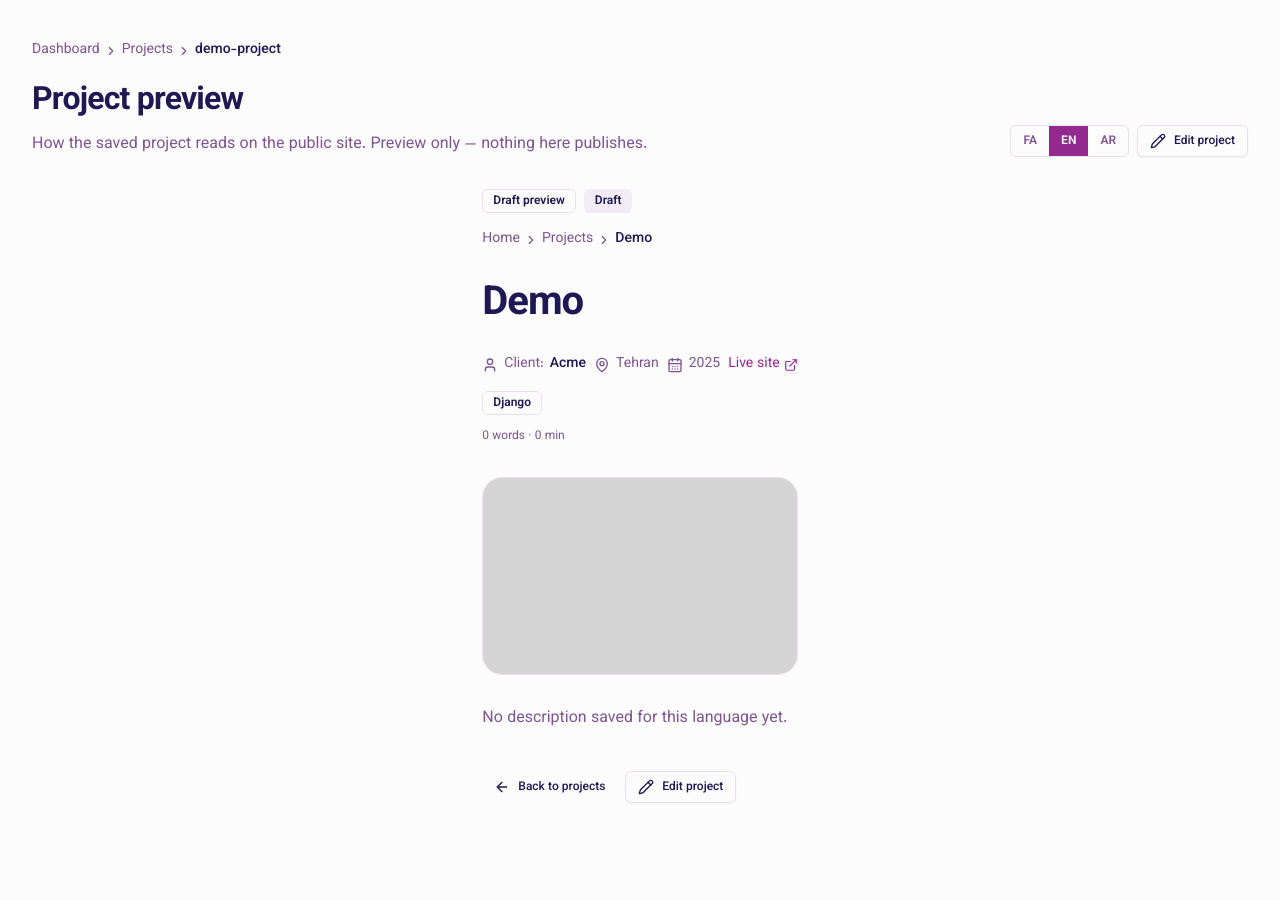
Scenario: ProjectPreviewPage › renders the read-only draft preview without publishing
Expected: the heading "Project preview" is shown, [32, 76, 243, 126]
Expected: the heading "Demo" is shown, [482, 273, 583, 335]
Click the button "fa": [1030, 141] box [1012, 126, 1049, 156]
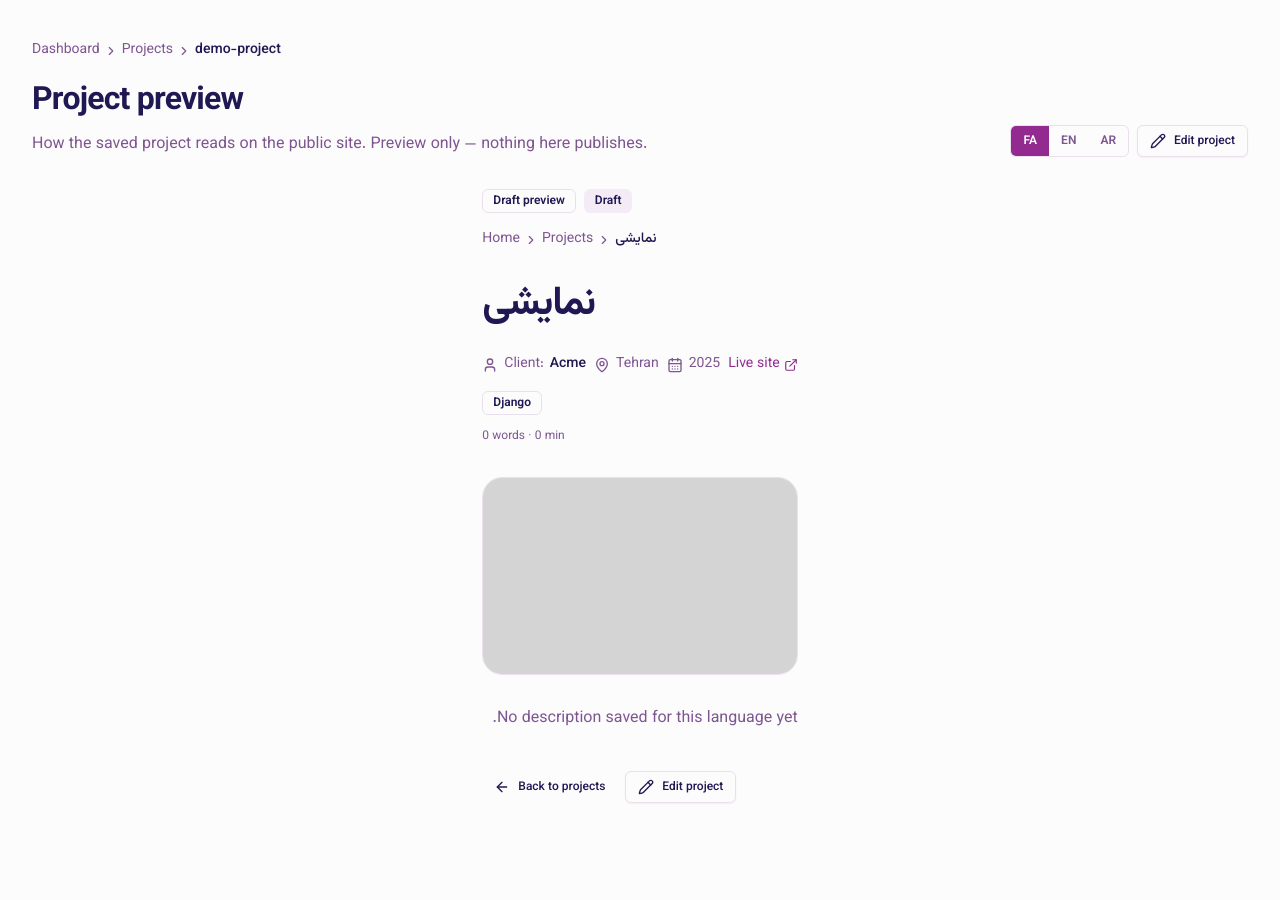
Expected: the text "نمایشی" is shown, [615, 229, 657, 250]
